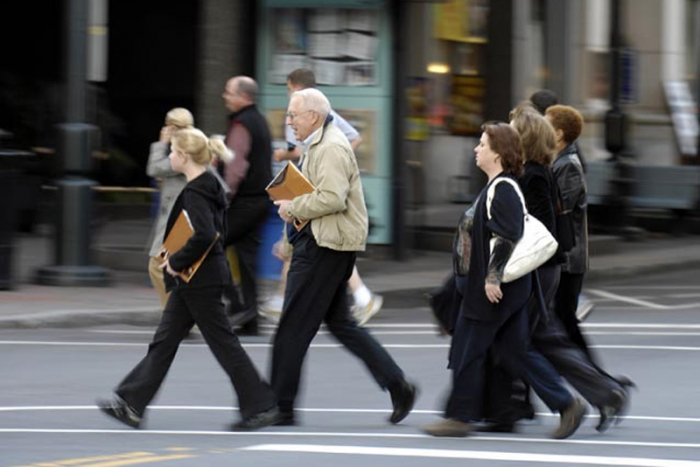NOTSAFE: (456, 120, 529, 300), (281, 88, 361, 250), (159, 128, 226, 283)
